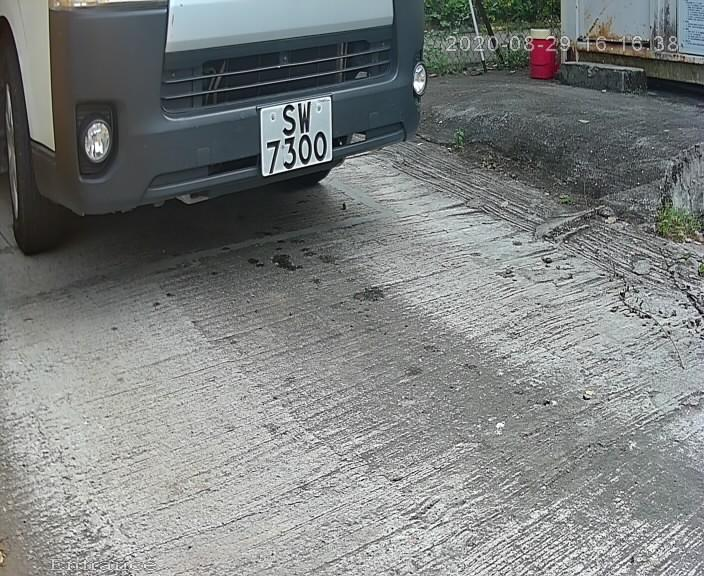Car: (32, 1, 475, 278)
License Plate: (252, 88, 340, 188)
